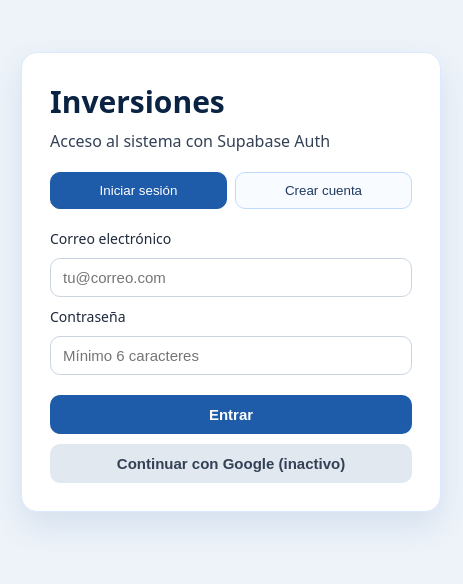
Scenario: LoginPage › crea cuenta y solicita confirmacion por correo cuando no hay sesion
The image size is (463, 584).
Click the button "Crear cuenta" at (324, 190), box 235,172 -> 412,209
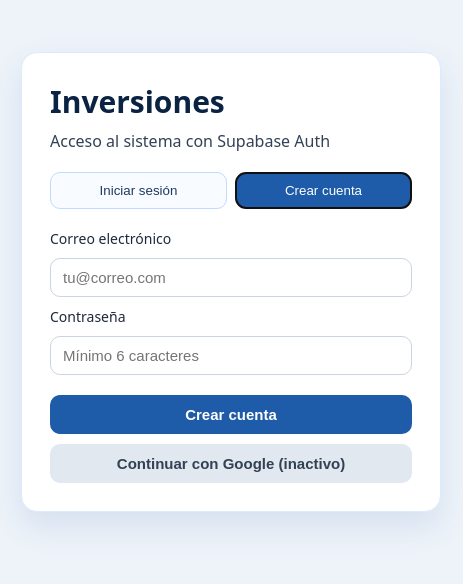
Type "nuevo@correo.com" into the field labelled "Correo electrónico" at (231, 278), box 50,258 -> 412,297
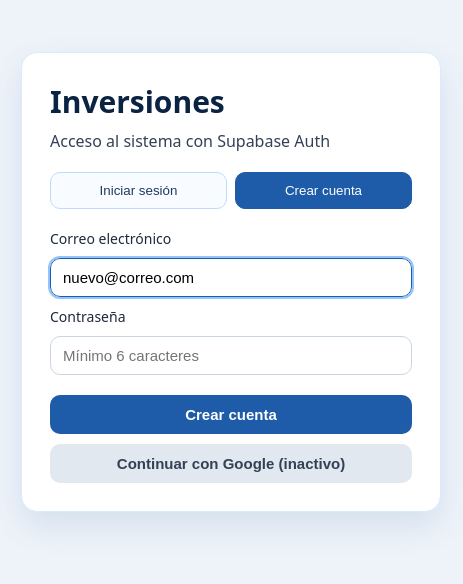
Type "123456" into the password field labelled "Contraseña" at (231, 356), box 50,336 -> 412,375
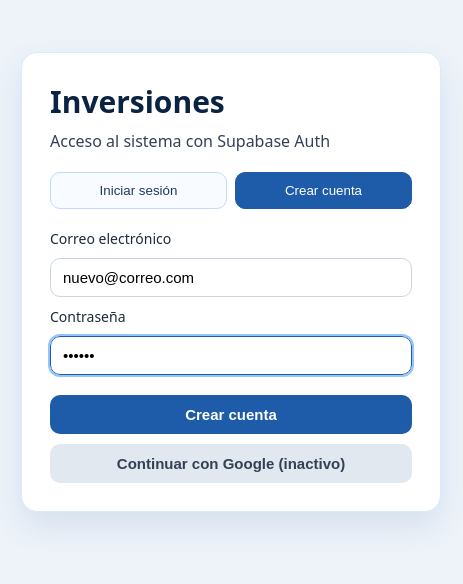
Click the button "Crear cuenta" below "Contraseña" at (231, 414), box 50,395 -> 412,434
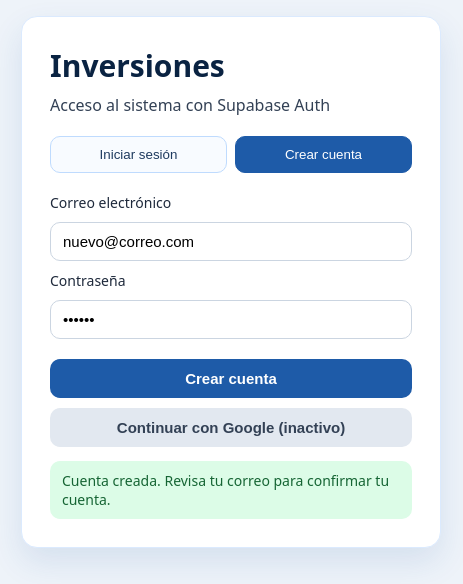
expect the text "Cuenta creada. Revisa tu correo para confirmar tu cuenta." is shown: met, box 50,461 -> 412,519
